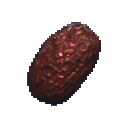gd: (16, 17, 120, 109)
